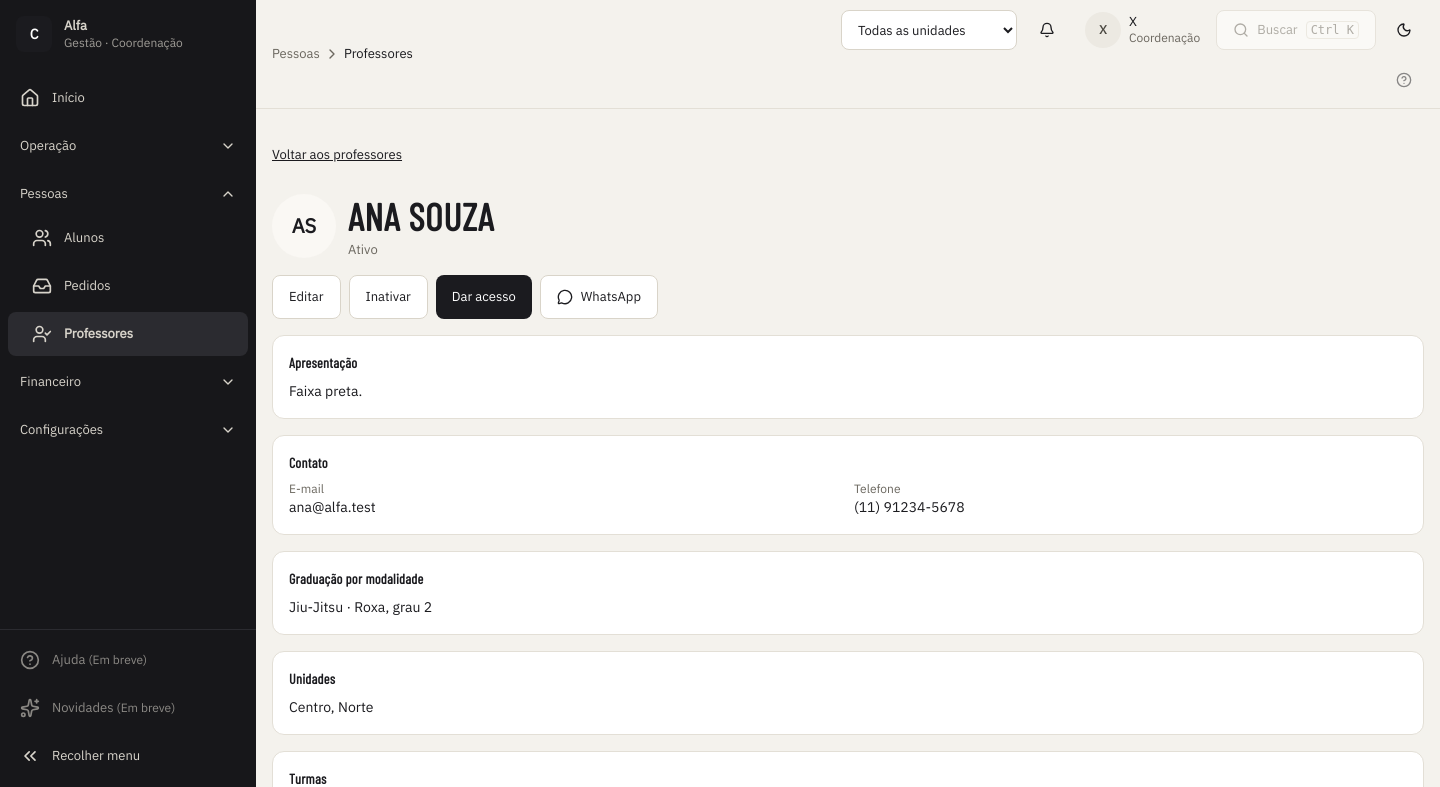
TeacherPanelPage (RF-PRO-02) › CA11: Dar acesso abre a janela com as unidades marcadas, envia e passa a mostrar Convite enviado
Click the button "Dar acesso" at (484, 297), box [436,275,532,319]
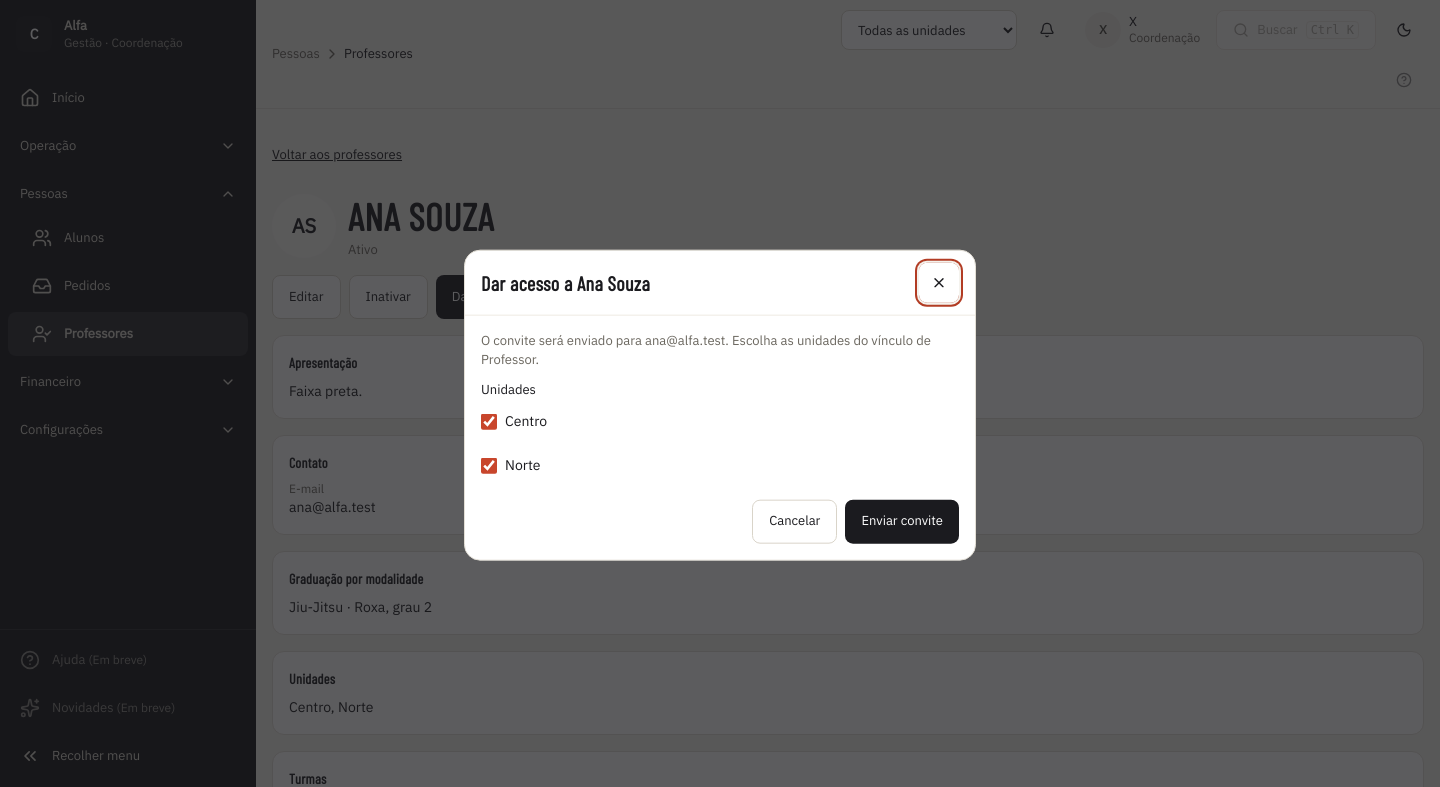
Check: the checkbox labelled "Centro" is checked, box [481,413,497,429]
Click the checkbox labelled "Norte" at (489, 465), box [481,457,497,473]
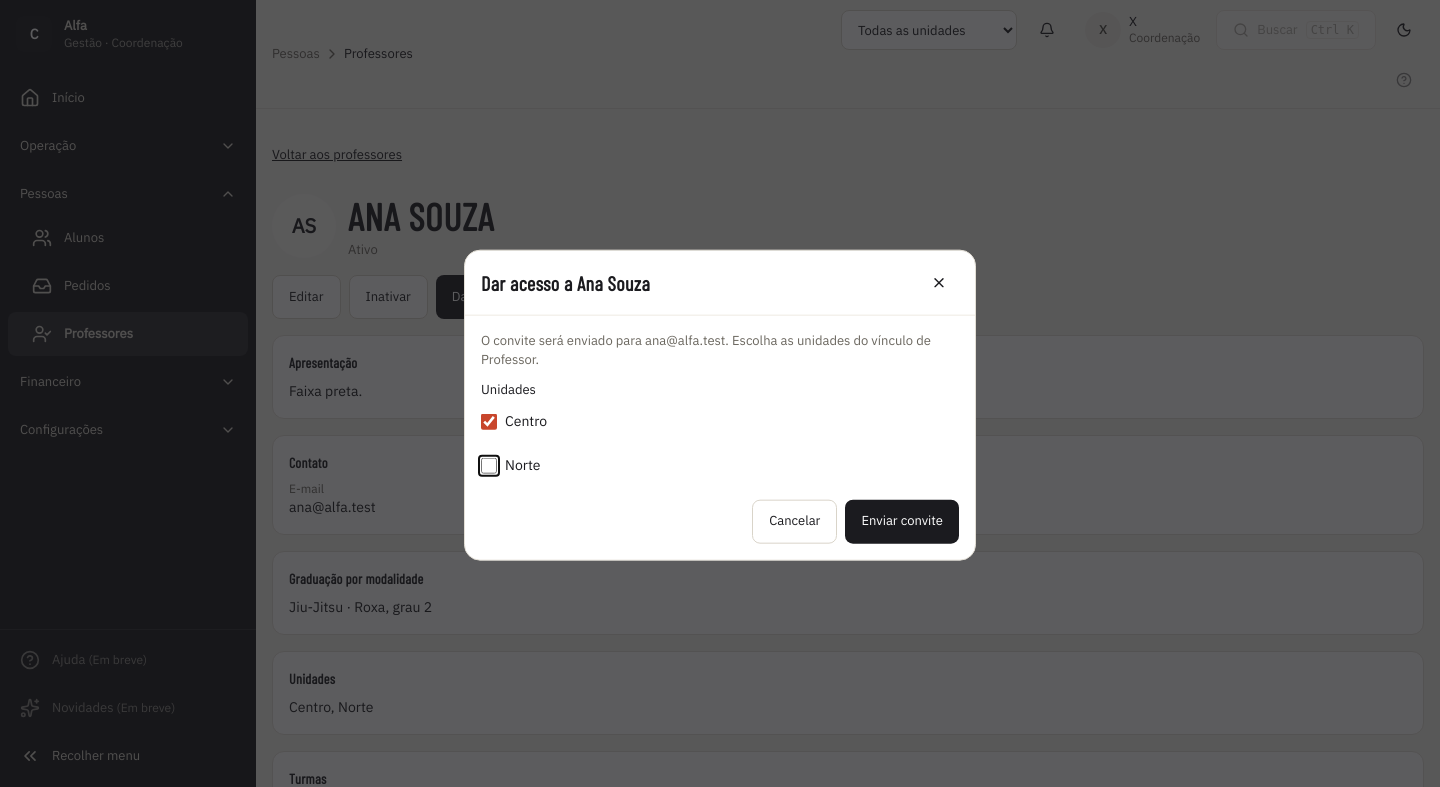
Click the button "Enviar convite" at (902, 521), box [845,499,959,543]
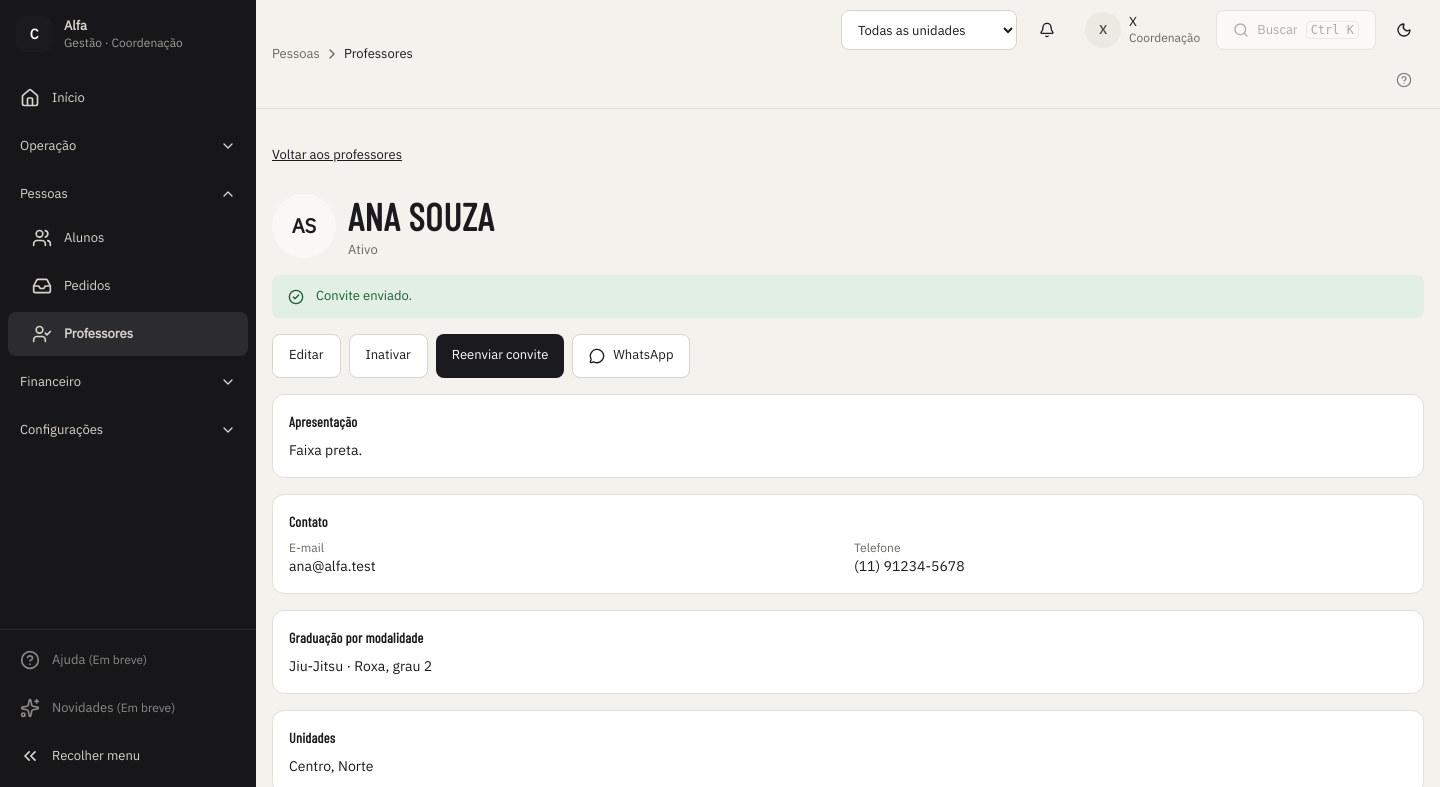
Check: the button "Reenviar convite" is shown, box [436,334,564,378]
Check: the button "Dar acesso" is gone
